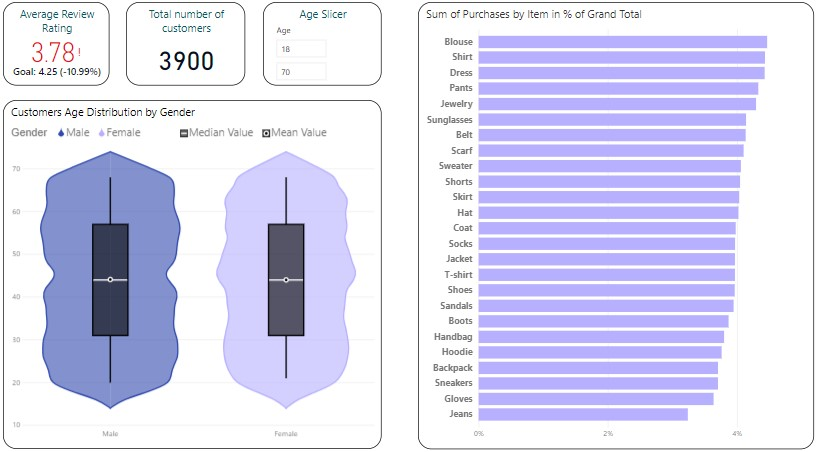

What the dashboard file says about the page in this screenshot:
{"tool":"powerbi","page":{"name":"Rating & Demographics","canvas":[1280,720],"ordinal":2},"visuals":[{"type":"card","title":"Total number of customers","fields":{"Values":["CountNonNull(shopping_trends_updated.Customer ID)"]},"box":[205.9,28.8,177.1,123.8],"z":0},{"type":"card","title":"Median age","fields":{"Values":["Median(shopping_trends_updated.Age)"]},"box":[410.4,28.8,175.7,123.8],"z":1000},{"type":"violinPlot4D46EB9EB3A141D9BA2289793175D971","title":"Customers Age Distribution by Gender","fields":{"measure":["Sum(shopping_trends_updated.Age)"],"category":["shopping_trends_updated.Gender"],"sampling":["shopping_trends_updated.Customer ID"]},"box":[24.5,174.2,561.6,518.4],"z":2000},{"type":"barChart","title":"Sum of Purchases by Item in % of Grand Total","fields":{"Category":["shopping_trends_updated.Item Purchased"],"Y":["Divide(Sum(shopping_trends_updated.Purchase Amount (USD)), ScopedEval(Sum(shopping_trends_updated.Purchase Amount (USD))"]},"box":[639.4,28.8,587.5,663.8],"z":3000},{"type":"kpi","title":"Average Review Rating","fields":{"Goal":["shopping_trends_updated.Avg Target Rating"],"Indicator":["shopping_trends_updated.Avg Review Rating"],"TrendLine":["shopping_trends_updated.Item Purchased"]},"box":[24.5,28.8,158.4,123.8],"z":4000}]}

Visuals, with their boxes in screenshot pixels (x1, y1, x2, y2), scaled from the page's 1280x720 canvas onto the 816x452 screenshot:
"Total number of customers" card: bbox(131, 18, 244, 96)
"Median age" card: bbox(262, 18, 374, 96)
"Customers Age Distribution by Gender" violinPlot4D46EB9EB3A141D9BA2289793175D971: bbox(16, 109, 374, 435)
"Sum of Purchases by Item in % of Grand Total" barChart: bbox(408, 18, 782, 435)
"Average Review Rating" kpi: bbox(16, 18, 117, 96)
